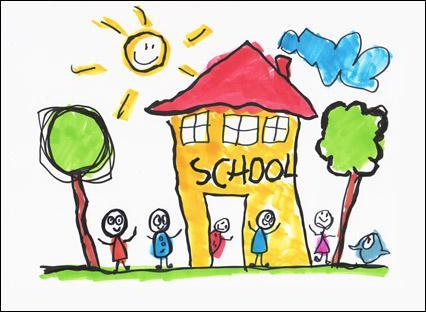bird: (348, 228, 391, 265)
person: (94, 207, 138, 271), (144, 207, 184, 271), (245, 207, 282, 267), (304, 206, 334, 265), (209, 217, 234, 259)
